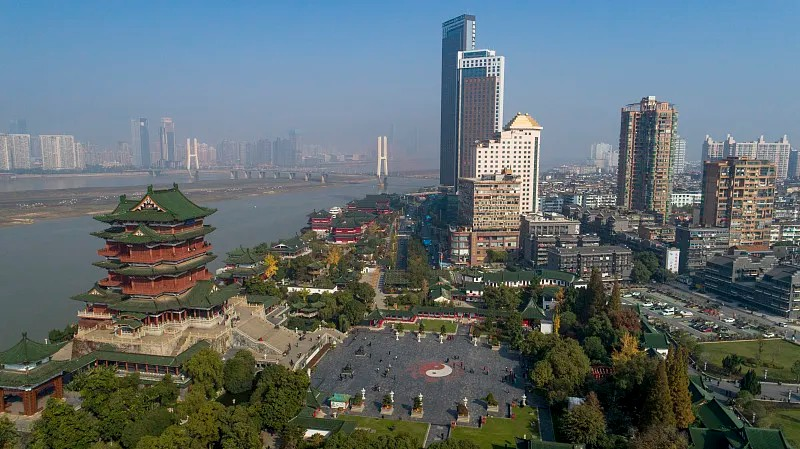Teng: (71, 183, 246, 326)
